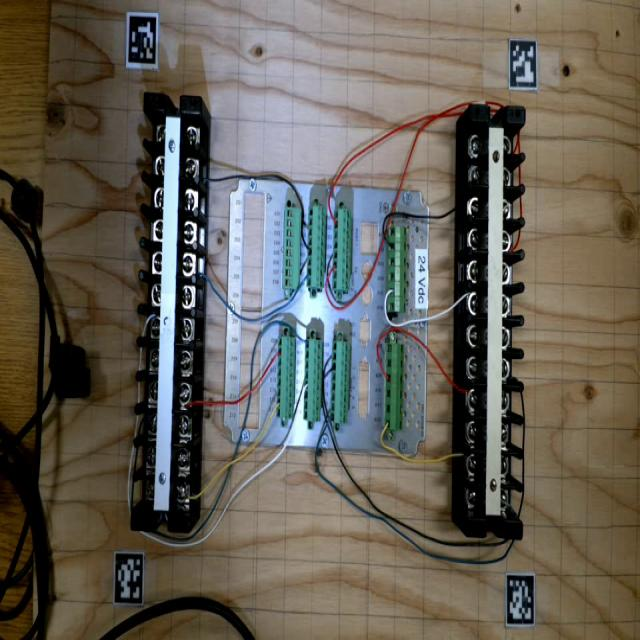Flathead_Block: (466, 104, 525, 540)
Phillips_Block: (131, 93, 202, 533)
Terminal_1: (384, 342, 404, 431), (387, 227, 407, 313)
Terminal_2: (303, 339, 323, 422), (306, 205, 326, 288), (332, 208, 351, 291), (276, 336, 295, 418), (330, 341, 349, 423)
